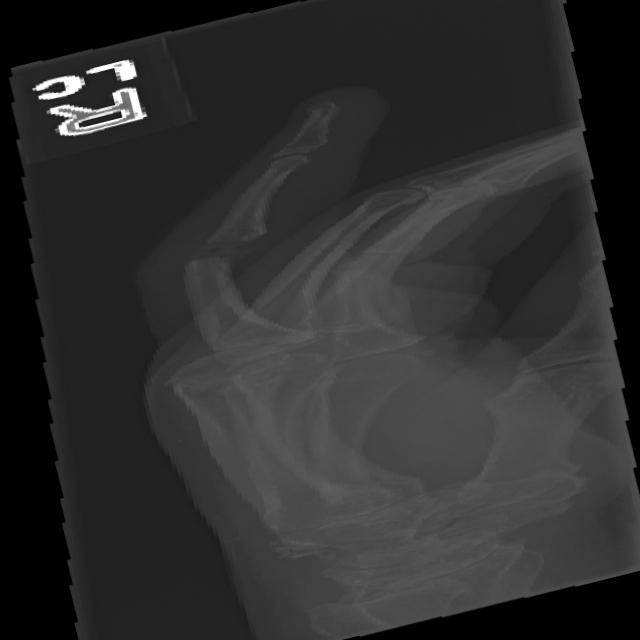fingers positive: (149, 215, 310, 284)
